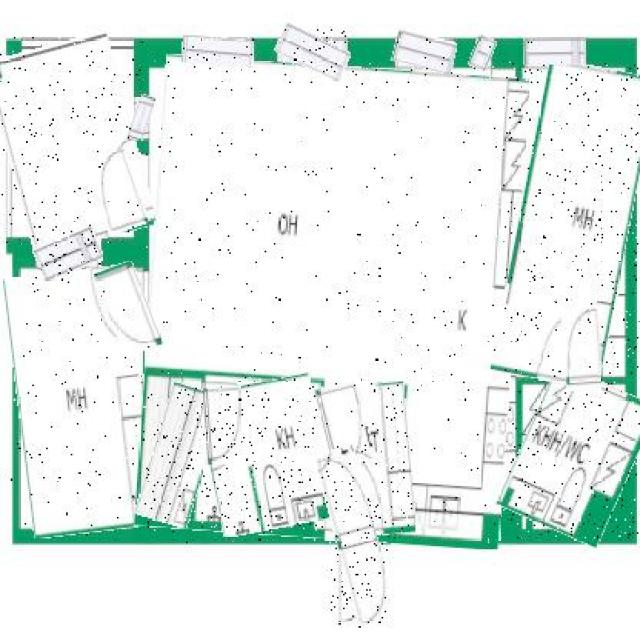door: (326, 444, 388, 628), (101, 263, 157, 355), (314, 383, 372, 466), (90, 151, 142, 234), (562, 294, 600, 391), (204, 388, 244, 464)
window: (276, 30, 350, 76), (36, 229, 101, 277), (392, 32, 456, 71), (183, 37, 254, 68), (523, 37, 586, 65), (131, 95, 152, 140), (471, 35, 495, 71)
zone: (142, 60, 522, 545), (503, 62, 640, 384), (11, 268, 149, 535), (0, 37, 145, 248), (507, 370, 640, 538), (203, 377, 329, 532), (325, 383, 412, 537), (143, 383, 215, 526)
